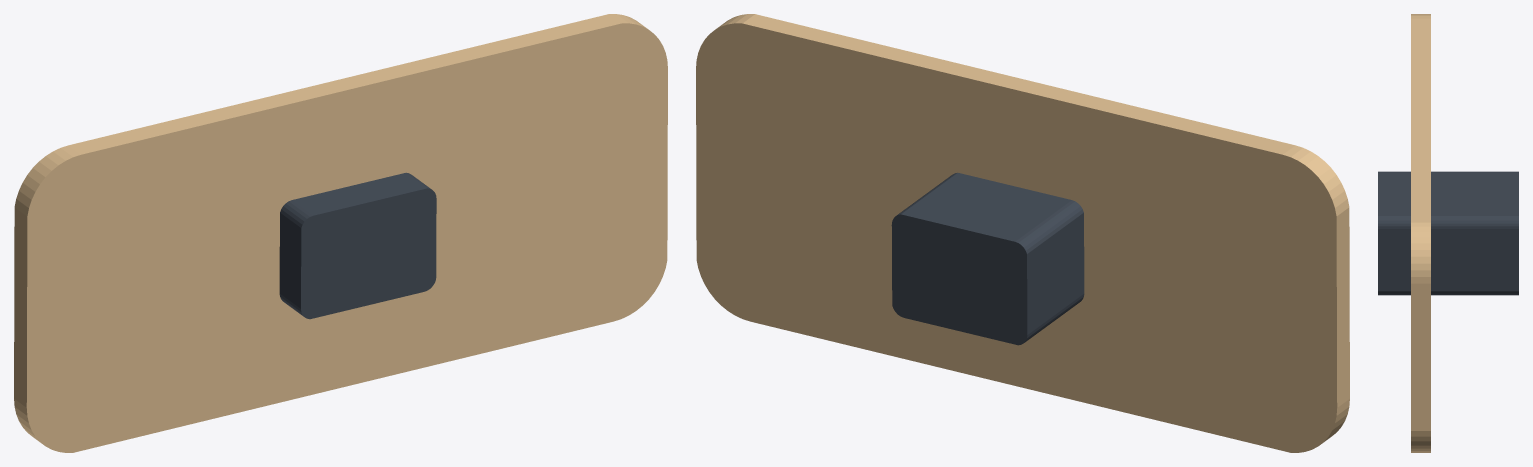
The model's file is MEETING_TABLE_8P_HERO_001.glb.
3 views of the same model, side by side, from view 1: azimuth 30°, elevation 25°; view 2: azimuth 150°, elevation 25°; view 3: azimuth 270°, elevation 25° (orthographic). The views are drawn at different scales.
Parts seen in each view (by area): view 1: meeting_table_top_000, pedestal_001; view 2: meeting_table_top_000, pedestal_001; view 3: pedestal_001, meeting_table_top_000.
Part boxes in pixels (bbox=[...]): meeting_table_top_000: bbox=[14, 14, 667, 452]; pedestal_001: bbox=[279, 172, 436, 319]; meeting_table_top_000: bbox=[696, 14, 1349, 452]; pedestal_001: bbox=[891, 172, 1084, 345]; pedestal_001: bbox=[1378, 171, 1518, 295]; meeting_table_top_000: bbox=[1411, 14, 1430, 452].
Bounding box in the file's own units: 2.6 × 1.15 × 0.64.
